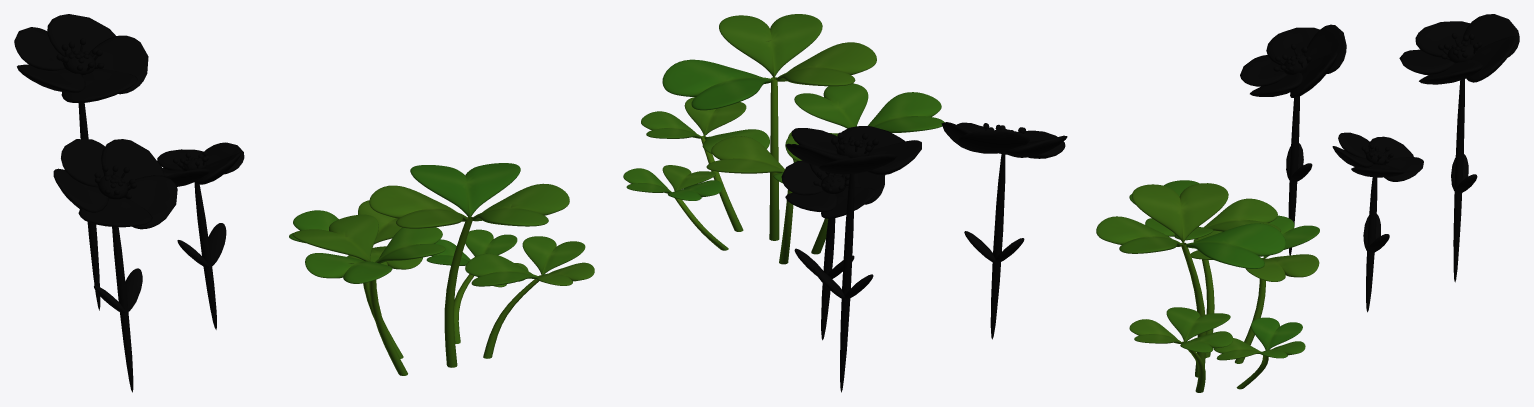
File: painted_woodland_blooms.glb
3 views of the same model, side by side, from view 1: azimuth 30°, elevation 25°; view 2: azimuth 150°, elevation 25°; view 3: azimuth 270°, elevation 25° (orthographic). The views are drawn at different scales.
Parts seen in each view (by area): view 1: SM_Painted_WoodlandBlooms; view 2: SM_Painted_WoodlandBlooms; view 3: SM_Painted_WoodlandBlooms.
Boxes of the visible parts, <box> form: SM_Painted_WoodlandBlooms: <box>14,14,594,392</box>; SM_Painted_WoodlandBlooms: <box>623,14,1067,392</box>; SM_Painted_WoodlandBlooms: <box>1096,14,1519,392</box>.
Size of the model in its own units: 0.6068 by 0.3362 by 0.5288.
